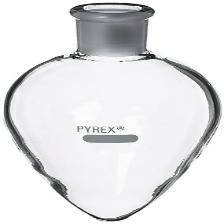Pear shaped flask: (7, 20, 223, 218)
